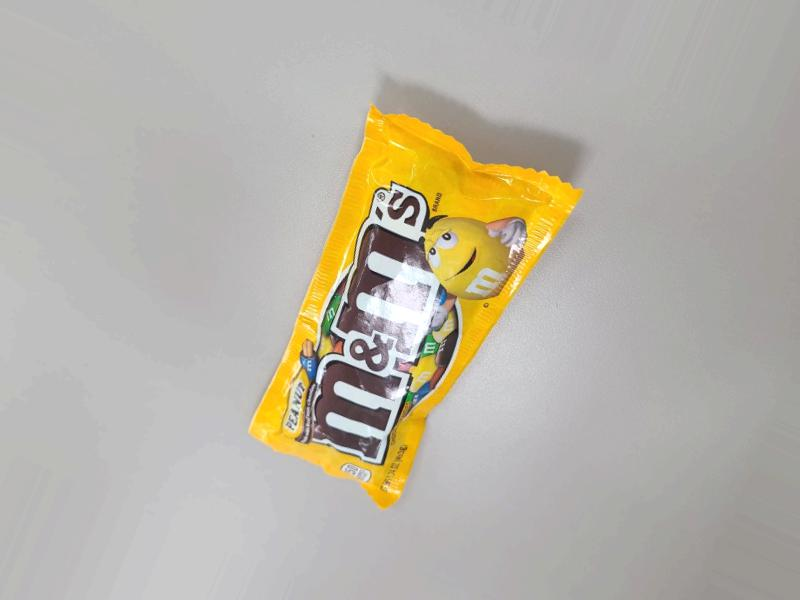m&m: (253, 95, 585, 523)
